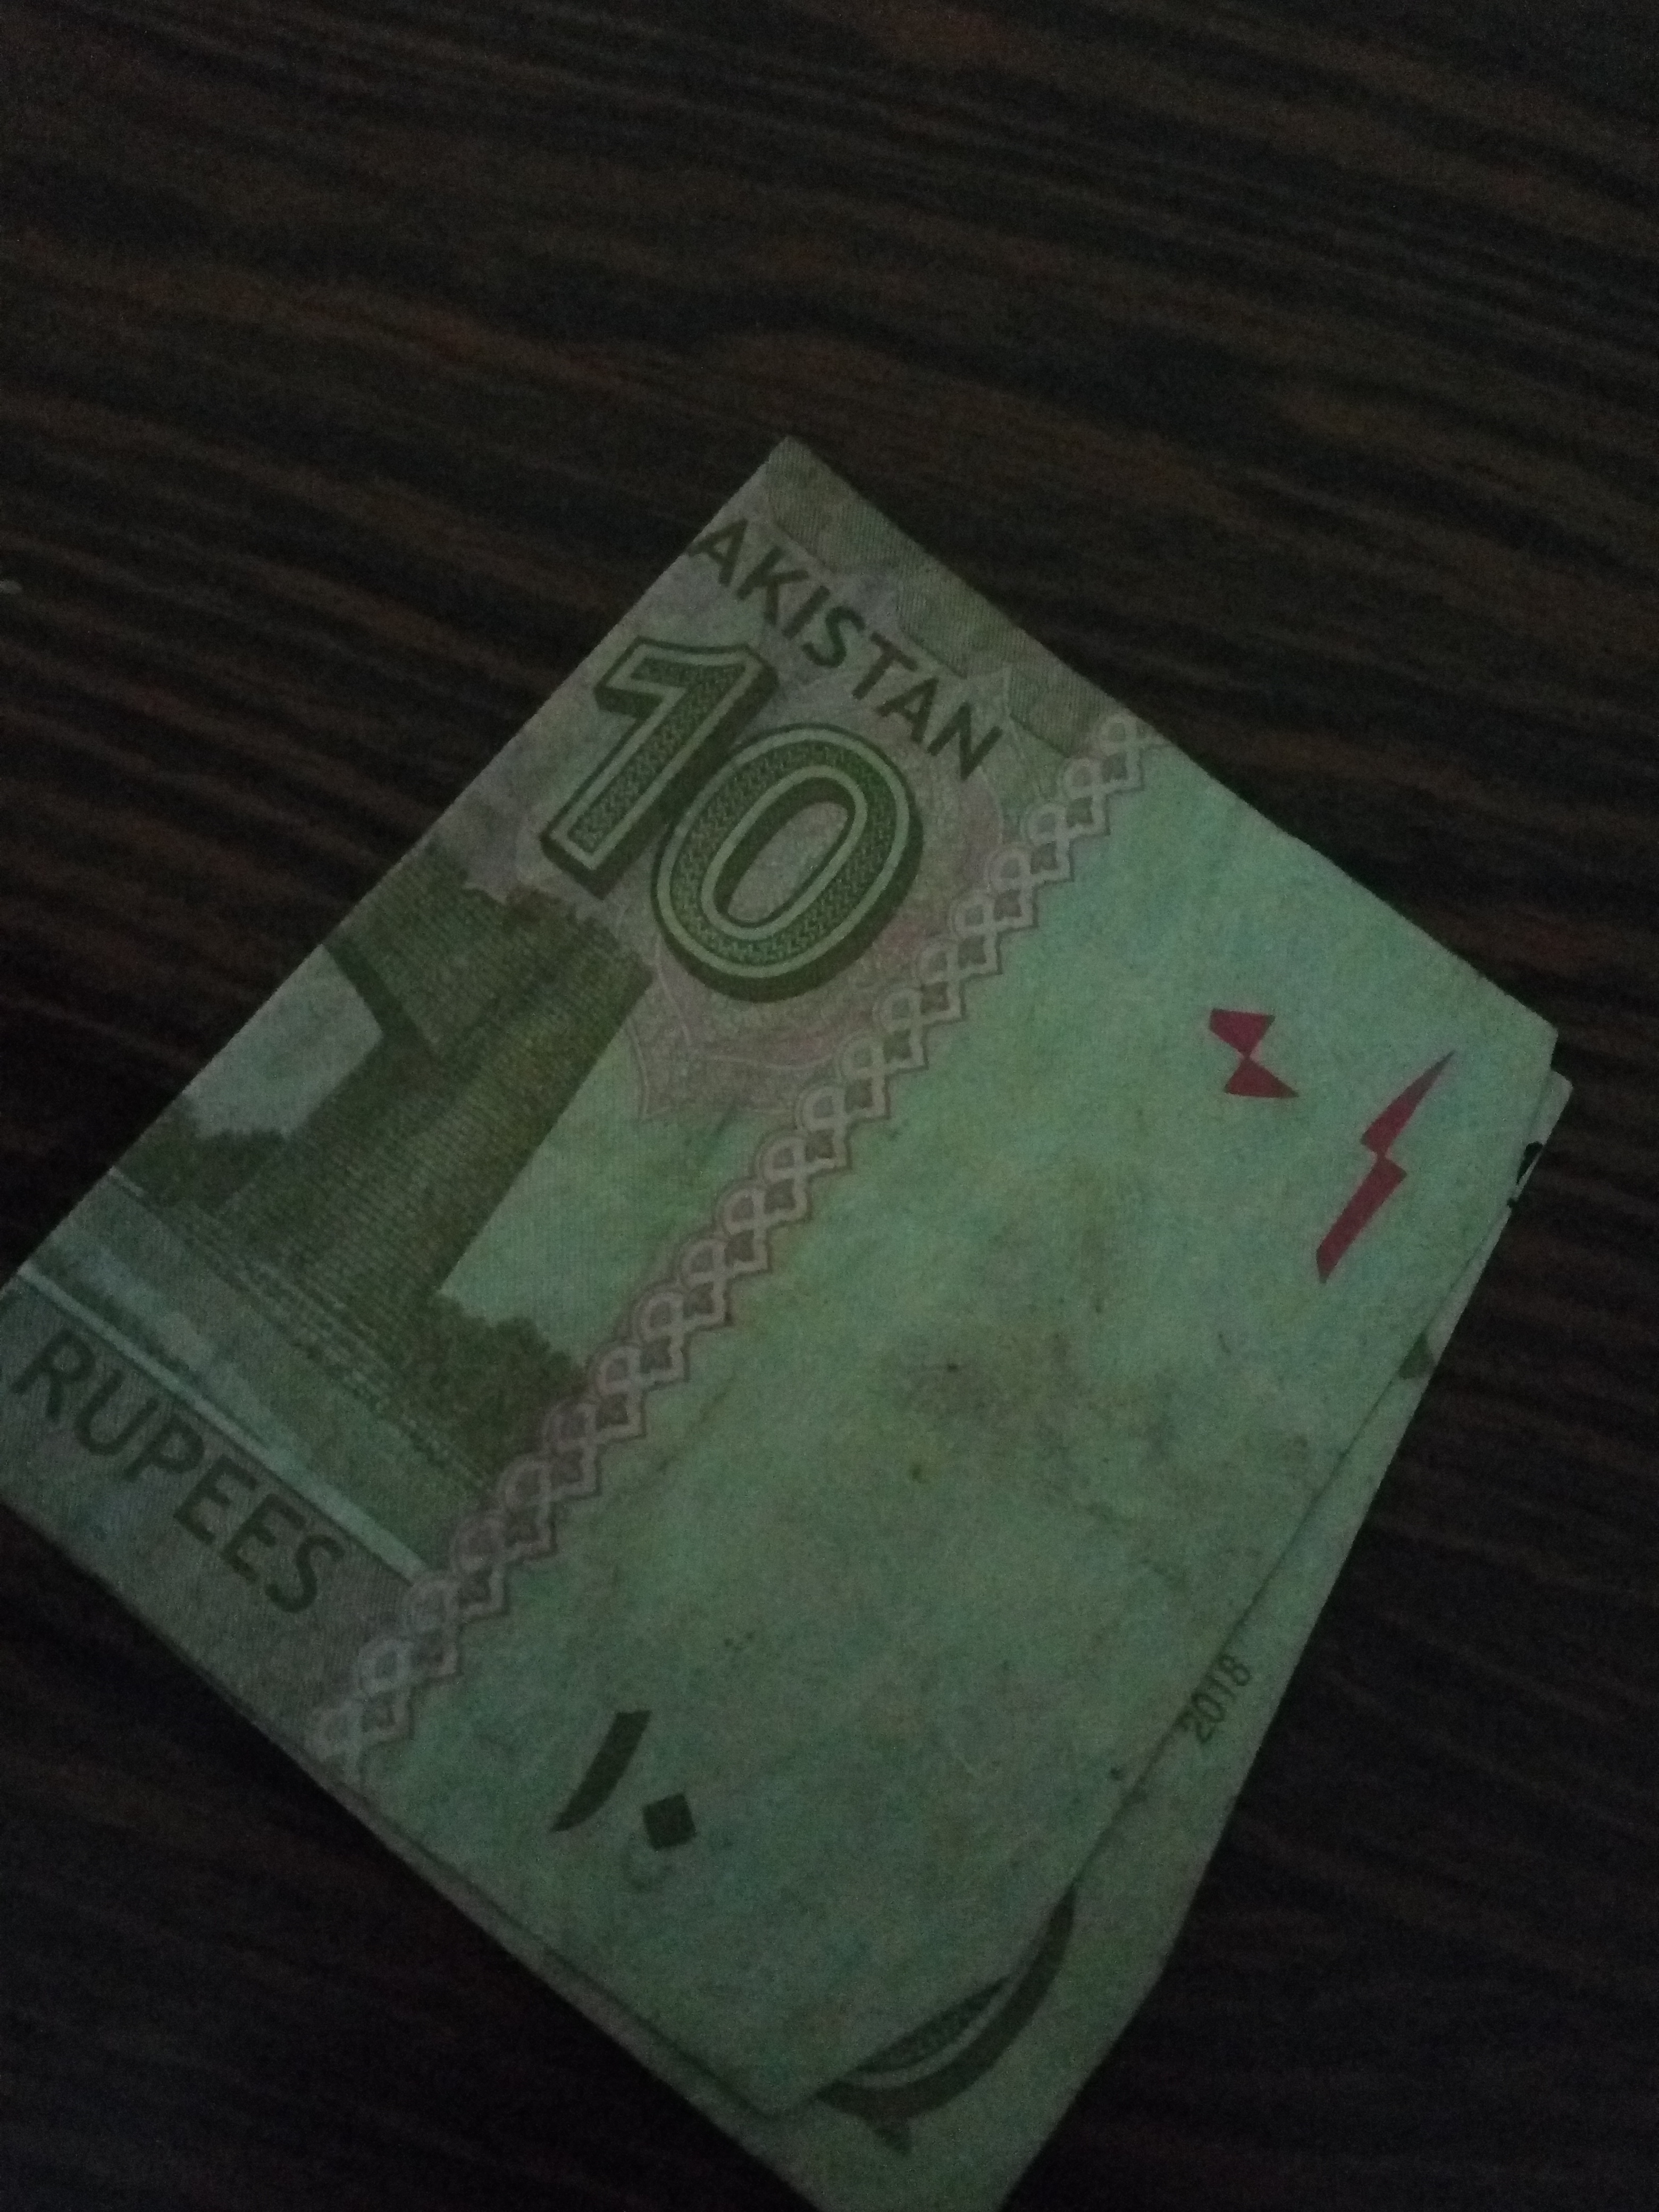10 rupee: (0, 420, 1605, 2193)
